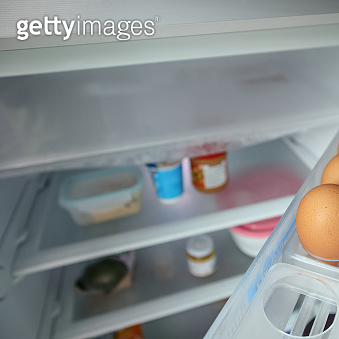egg: (296, 150, 339, 263)
